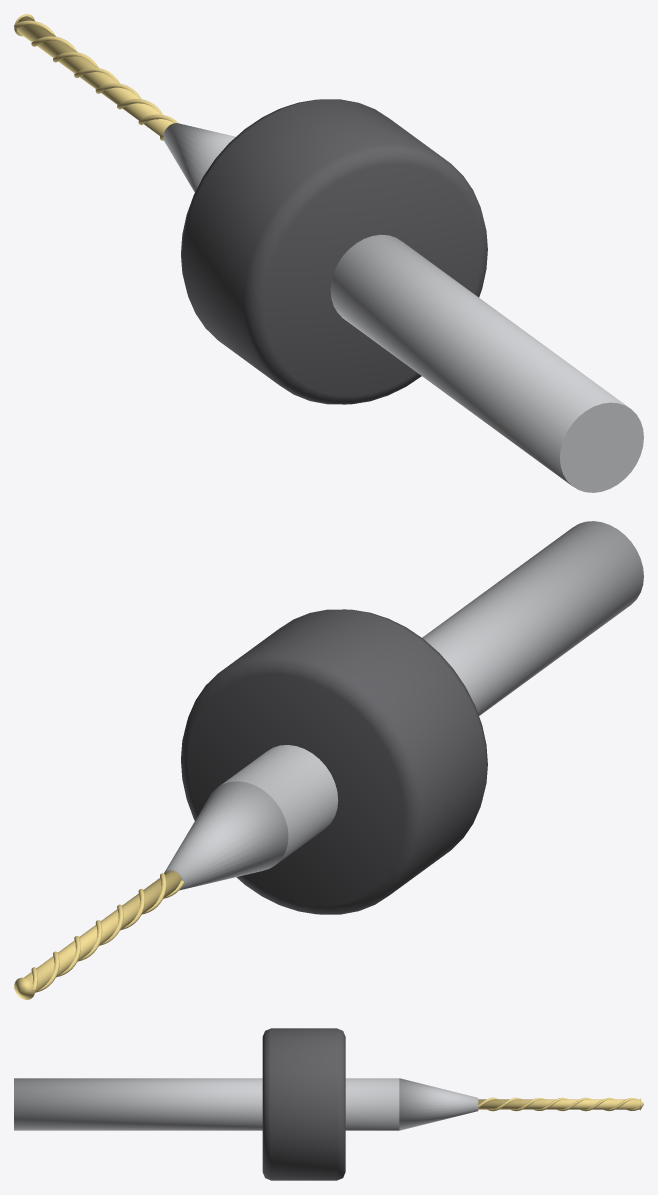
File: drill18_0p8.glb
The picture shows the model from 3 angles, top to bottom: view 1: azimuth 30°, elevation 25°; view 2: azimuth 150°, elevation 25°; view 3: azimuth 270°, elevation 25°; orthographic projection. The views are drawn at different scales.
Visible parts, largest first — view 1: Cylinder.002, Cylinder.001, Cylinder, Cone, flute, flute.001; view 2: Cylinder.002, Cylinder.001, Cone, Cylinder, flute, flute.001; view 3: Cylinder.001, Cylinder.002, Cone, Cylinder, flute, flute.001.
Part boxes in pixels (x1,y1,x2,y2): Cylinder.002: (181, 99, 487, 404); Cylinder.001: (330, 234, 643, 492); Cylinder: (16, 16, 173, 136); Cone: (163, 123, 235, 192); flute: (14, 20, 178, 124); flute.001: (31, 36, 163, 140); Cylinder.002: (181, 609, 487, 914); Cylinder.001: (219, 521, 643, 864); Cone: (164, 781, 288, 890); Cylinder: (24, 870, 181, 992); flute: (31, 873, 166, 990); flute.001: (14, 880, 184, 992); Cylinder.001: (14, 1078, 399, 1130); Cylinder.002: (262, 1028, 345, 1180); Cone: (399, 1078, 478, 1130); Cylinder: (478, 1099, 639, 1109); flute: (478, 1097, 637, 1111); flute.001: (487, 1097, 640, 1111).
Bounding box in the file's own units: 0.00917 × 0.00917 × 0.038.
